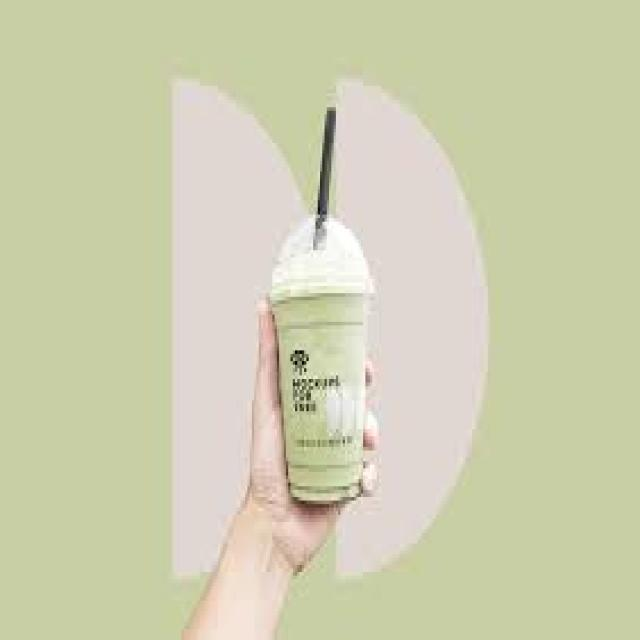cup: (256, 266, 397, 543)
